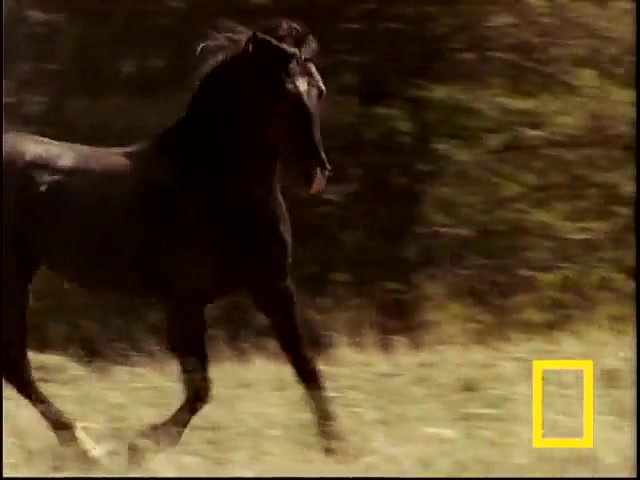horse: (2, 19, 343, 459)
